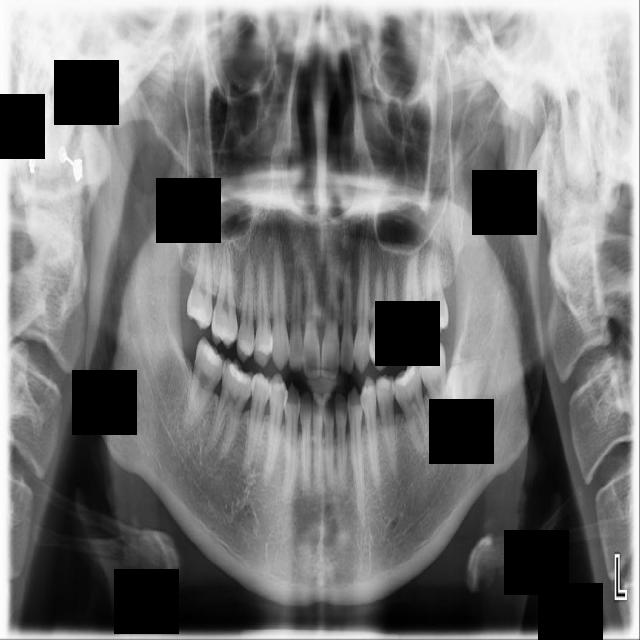52: (206, 353, 266, 413), (184, 334, 236, 392), (384, 358, 433, 413), (187, 282, 213, 331), (400, 312, 427, 358), (366, 324, 389, 373), (268, 372, 289, 418), (236, 317, 256, 365), (374, 372, 396, 415), (253, 322, 273, 369), (384, 326, 402, 367)
73: (602, 594, 612, 597)
BioHorizons Implant: (425, 217, 449, 343)
Biomet 3i Implant: (435, 353, 484, 432)
Blue Sky Bio Implant: (414, 338, 459, 441)
Caries: (184, 210, 219, 331)
Implant: (179, 336, 230, 439)
